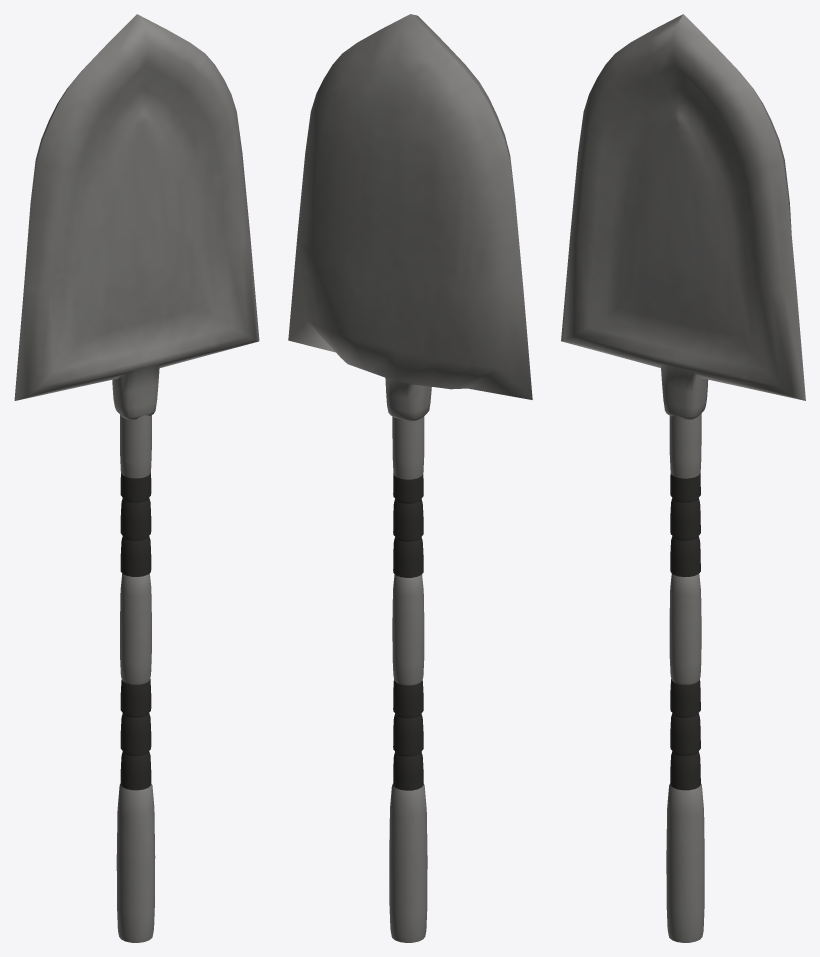
File: PaDeSobrevivencia.fbx
3 views of the same model, side by side, from view 1: azimuth 30°, elevation 25°; view 2: azimuth 150°, elevation 25°; view 3: azimuth 330°, elevation 25° (orthographic).
Visible parts, largest first — view 1: Pa; view 2: Pa; view 3: Pa.
Part boxes in pixels (bbox=[...]): Pa: bbox=[14, 14, 259, 942]; Pa: bbox=[288, 14, 532, 942]; Pa: bbox=[561, 14, 805, 942].
Size of the model in its own units: 33.27 by 120 by 7.09.
